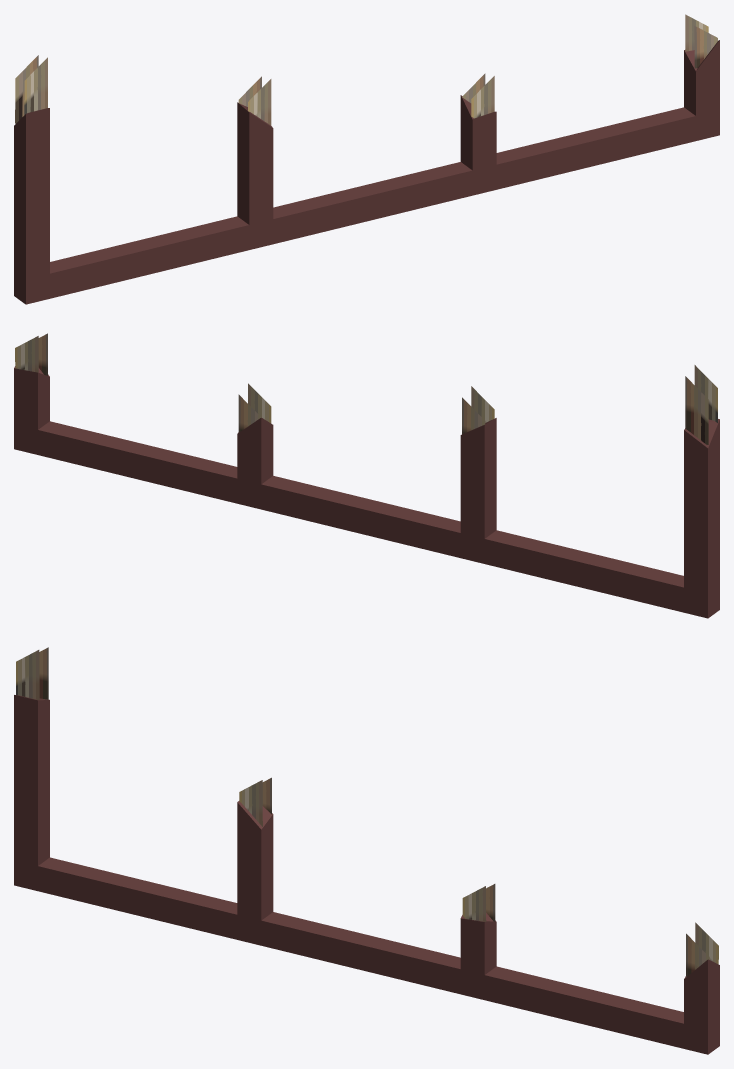
The model's file is DBK_WinWide_Wood_Tile.fbx.
3 renders of one model, top to bottom at view 1: azimuth 30°, elevation 25°; view 2: azimuth 150°, elevation 25°; view 3: azimuth 330°, elevation 25°, orthographic.
Visible parts, largest first — view 1: DBK_WinWide_Wood_Tile; view 2: DBK_WinWide_Wood_Tile; view 3: DBK_WinWide_Wood_Tile.
Part boxes in pixels (x1=…): DBK_WinWide_Wood_Tile: x1=14, y1=14, x2=719, y2=304; DBK_WinWide_Wood_Tile: x1=14, y1=333, x2=719, y2=618; DBK_WinWide_Wood_Tile: x1=14, y1=647, x2=719, y2=1054.
Size of the model in its own units: 160 by 52.97 by 4.75.
